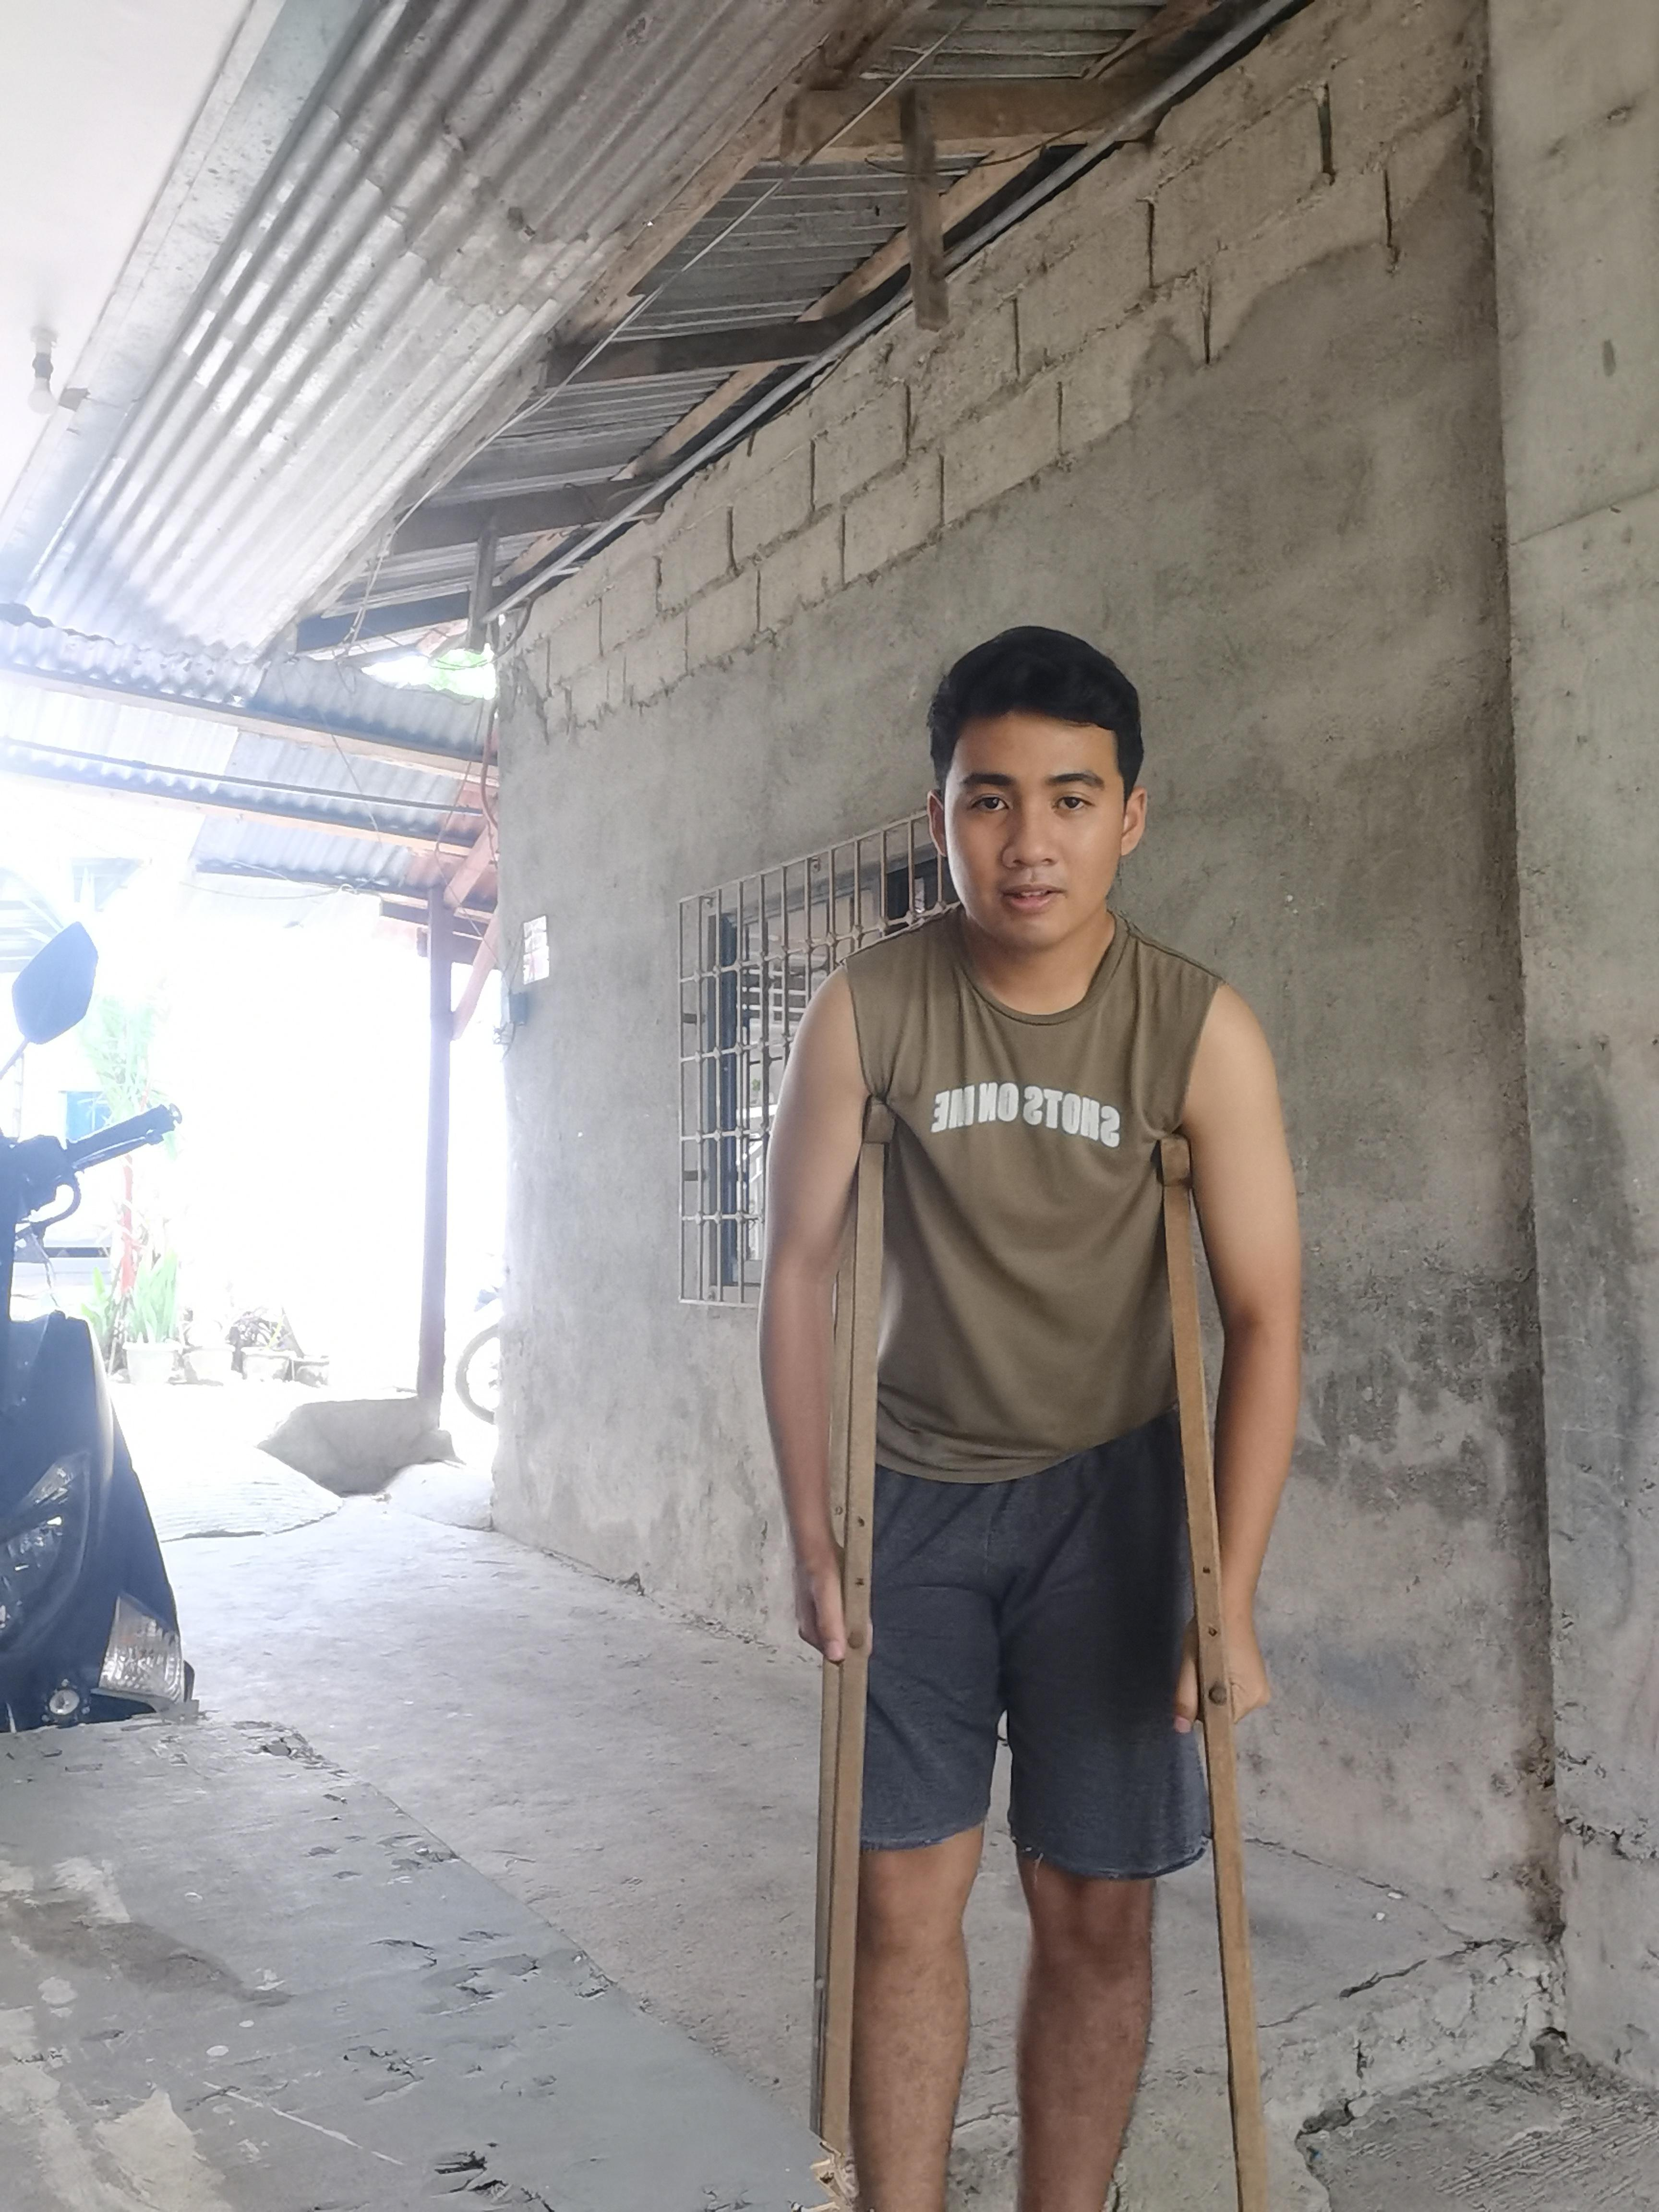crutches: (746, 606, 1317, 2212)
